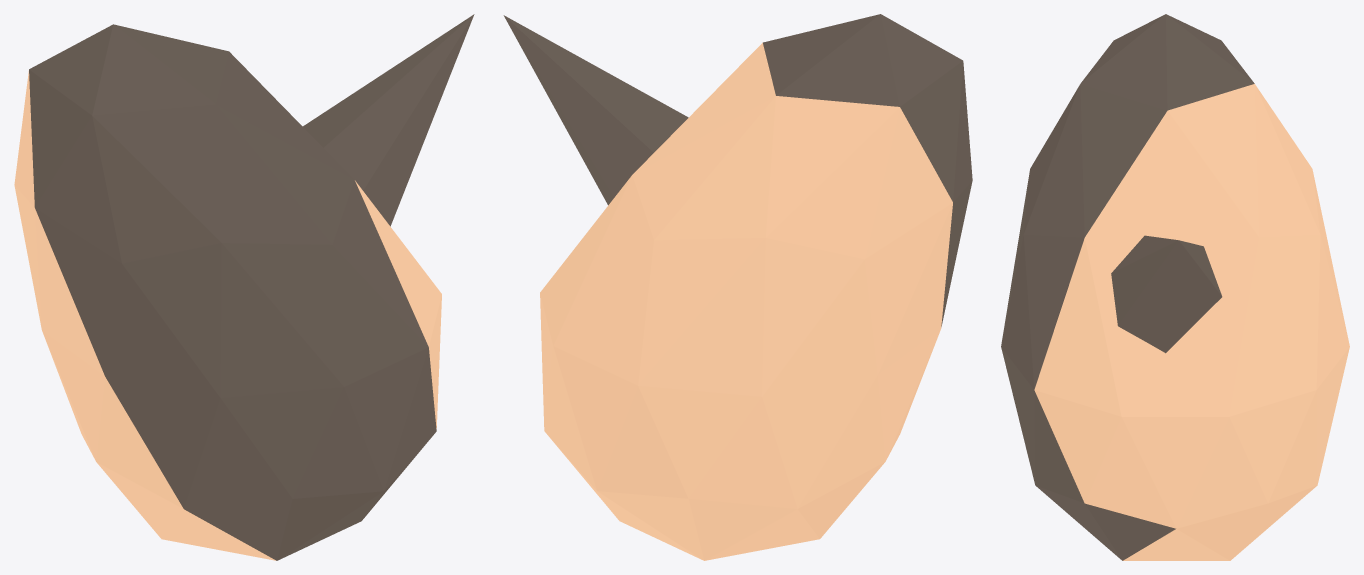
The model's file is big_rock.glb.
The picture shows the model from 3 angles, left to right: view 1: azimuth 30°, elevation 25°; view 2: azimuth 150°, elevation 25°; view 3: azimuth 270°, elevation 25°; orthographic projection. The views are drawn at different scales.
Visible parts, largest first — view 1: big_rocks; view 2: big_rocks; view 3: big_rocks.
Part boxes in pixels (left/top/right/bottom): big_rocks: left=14, top=14, right=474, bottom=560; big_rocks: left=503, top=14, right=972, bottom=560; big_rocks: left=1001, top=14, right=1349, bottom=560.
Size of the model in its own units: 2.51 by 3.05 by 2.
